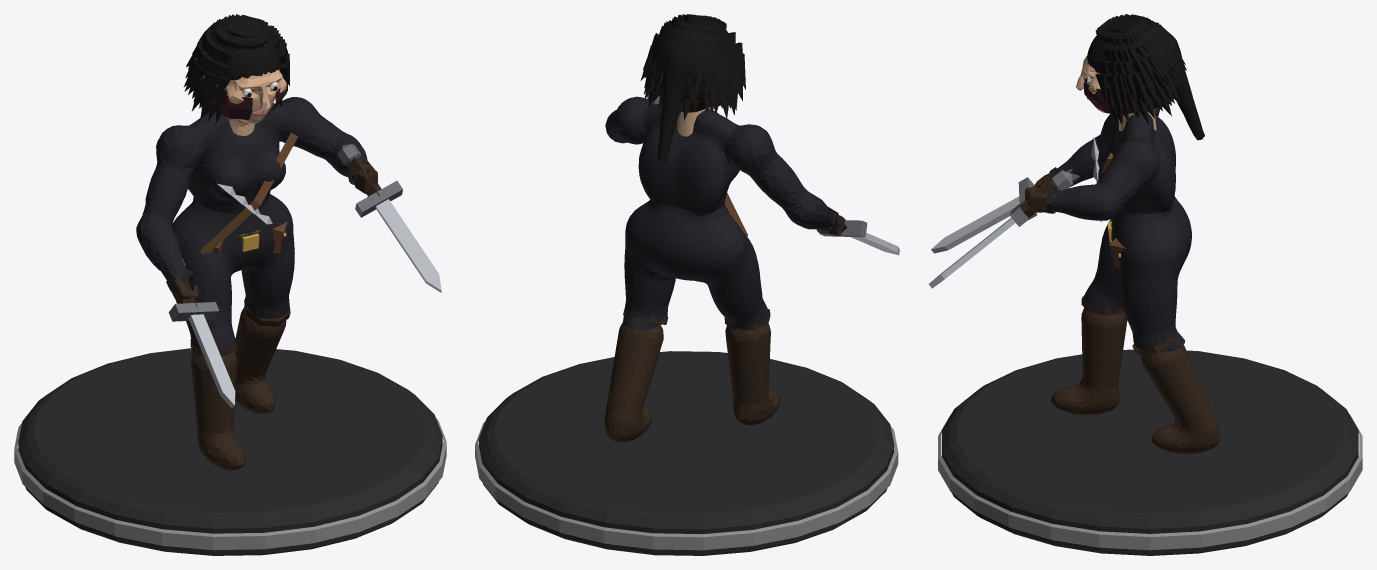
File: assassin.glb
3 renders of one model, left to right at view 1: azimuth 30°, elevation 25°; view 2: azimuth 150°, elevation 25°; view 3: azimuth 270°, elevation 25°, orthographic. The views are drawn at different scales.
Parts seen in each view (by area): view 1: assassin; view 2: assassin; view 3: assassin.
Boxes of the visible parts, box(x1,y1,x2,y2) form: assassin: box(14, 14, 446, 555); assassin: box(475, 14, 899, 555); assassin: box(928, 14, 1362, 555).
Bounding box in the file's own units: 0.856 × 0.995 × 0.8691.
